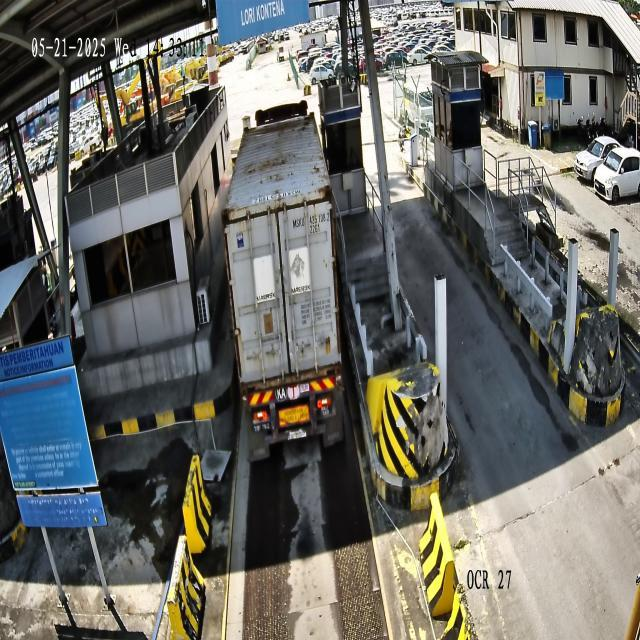ISO: (310, 224, 320, 234)
container_number: (292, 212, 330, 229)
